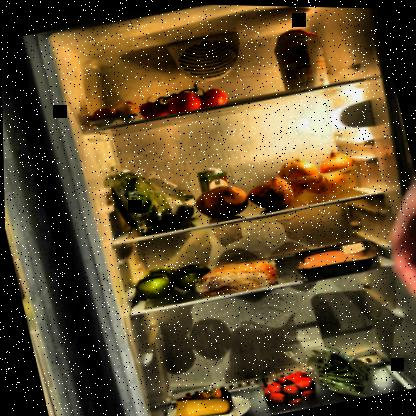apple: (128, 254, 215, 303)
cheese: (168, 381, 236, 415)
chicken: (287, 232, 382, 285)
eggs: (85, 96, 142, 129)
green_beans: (298, 336, 378, 406)
heavy_cream: (193, 162, 234, 213)
onion: (269, 142, 363, 207)
spinach: (102, 156, 203, 240)
strawberries: (256, 364, 319, 411)
sweet_potato: (187, 167, 299, 224)
tomato: (128, 73, 232, 124)
